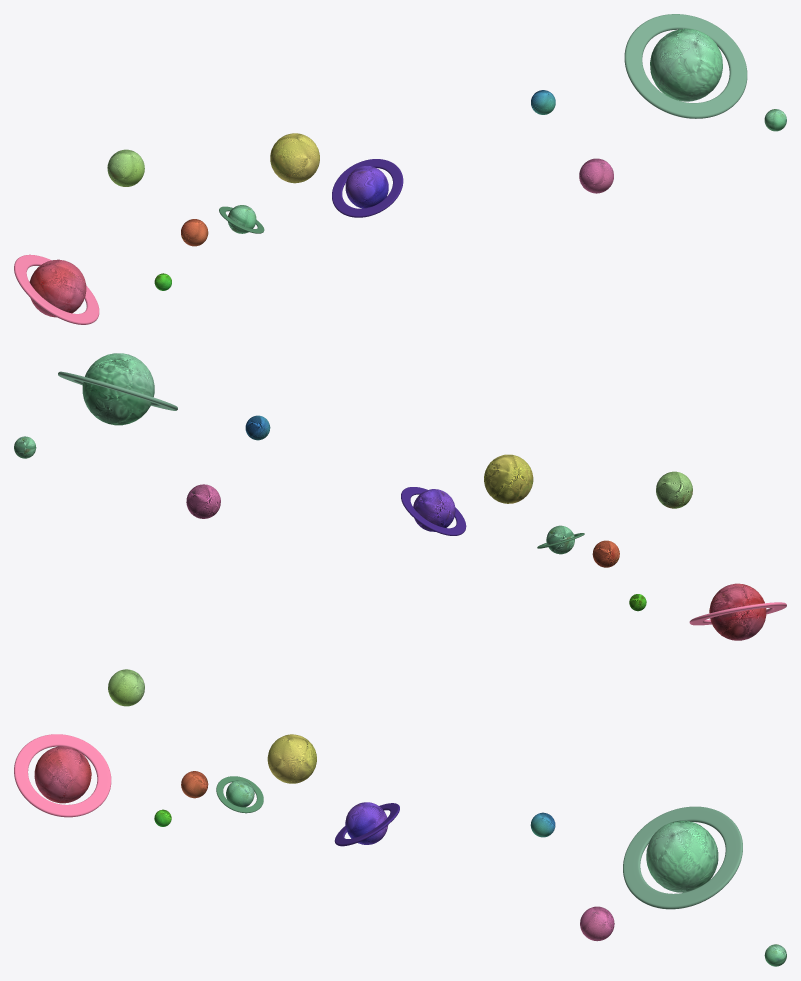
Rendered from planet-1.glb.
3 renders of one model, top to bottom at view 1: azimuth 30°, elevation 25°; view 2: azimuth 150°, elevation 25°; view 3: azimuth 330°, elevation 25°, orthographic.
Parts seen in each view (by area): view 1: p3.001, p1.001, p13.001, p5.001, p12.001, p4.001, p2.001, p10.001; view 2: p3.001, p1.001, p13.001, p5.001, p12.001, p4.001, p2.001, p10.001; view 3: p3.001, p1.001, p5.001, p13.001, p2.001, p12.001, p4.001, p10.001.
Boxes of the visible parts, box(x1,y1,x2,y2) form: p3.001: box(624, 14, 747, 118); p1.001: box(14, 254, 99, 324); p13.001: box(332, 159, 403, 217); p5.001: box(270, 133, 319, 183); p12.001: box(107, 149, 144, 186); p4.001: box(579, 158, 613, 193); p2.001: box(219, 205, 264, 233); p10.001: box(181, 219, 208, 246); p3.001: box(58, 353, 177, 425); p1.001: box(689, 583, 786, 640); p13.001: box(401, 487, 466, 535); p5.001: box(484, 454, 533, 503); p12.001: box(656, 471, 692, 508); p4.001: box(186, 484, 220, 518); p2.001: box(537, 525, 584, 554); p10.001: box(592, 540, 619, 567); p3.001: box(623, 806, 742, 909); p1.001: box(14, 734, 111, 817); p5.001: box(267, 734, 316, 783); p13.001: box(334, 802, 399, 846); p2.001: box(216, 776, 263, 813); p12.001: box(108, 669, 144, 706); p4.001: box(580, 906, 614, 941); p10.001: box(181, 771, 208, 798).
Size of the model in its own units: 15.08 by 2.96 by 1.83.
Materials: 2 (1 with a texture image).
